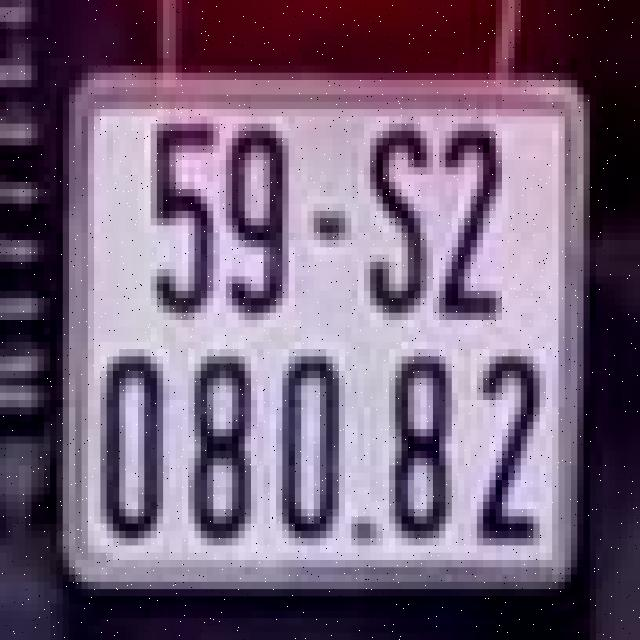0: (88, 346, 169, 549), (276, 342, 351, 553)
2: (467, 342, 549, 553), (436, 105, 505, 324)
5: (141, 102, 223, 327)
8: (182, 353, 257, 556), (383, 345, 458, 542)
9: (223, 116, 298, 328)
S: (355, 109, 436, 320)
